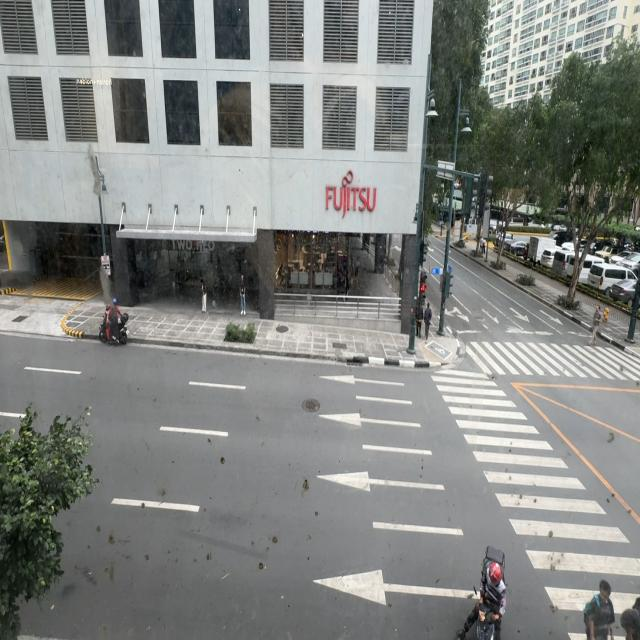crossing: (585, 575, 616, 640), (583, 578, 615, 638), (620, 573, 640, 640), (589, 304, 602, 345)
pedestrain: (424, 302, 432, 341), (415, 301, 423, 338), (240, 274, 247, 316), (344, 273, 350, 301)
